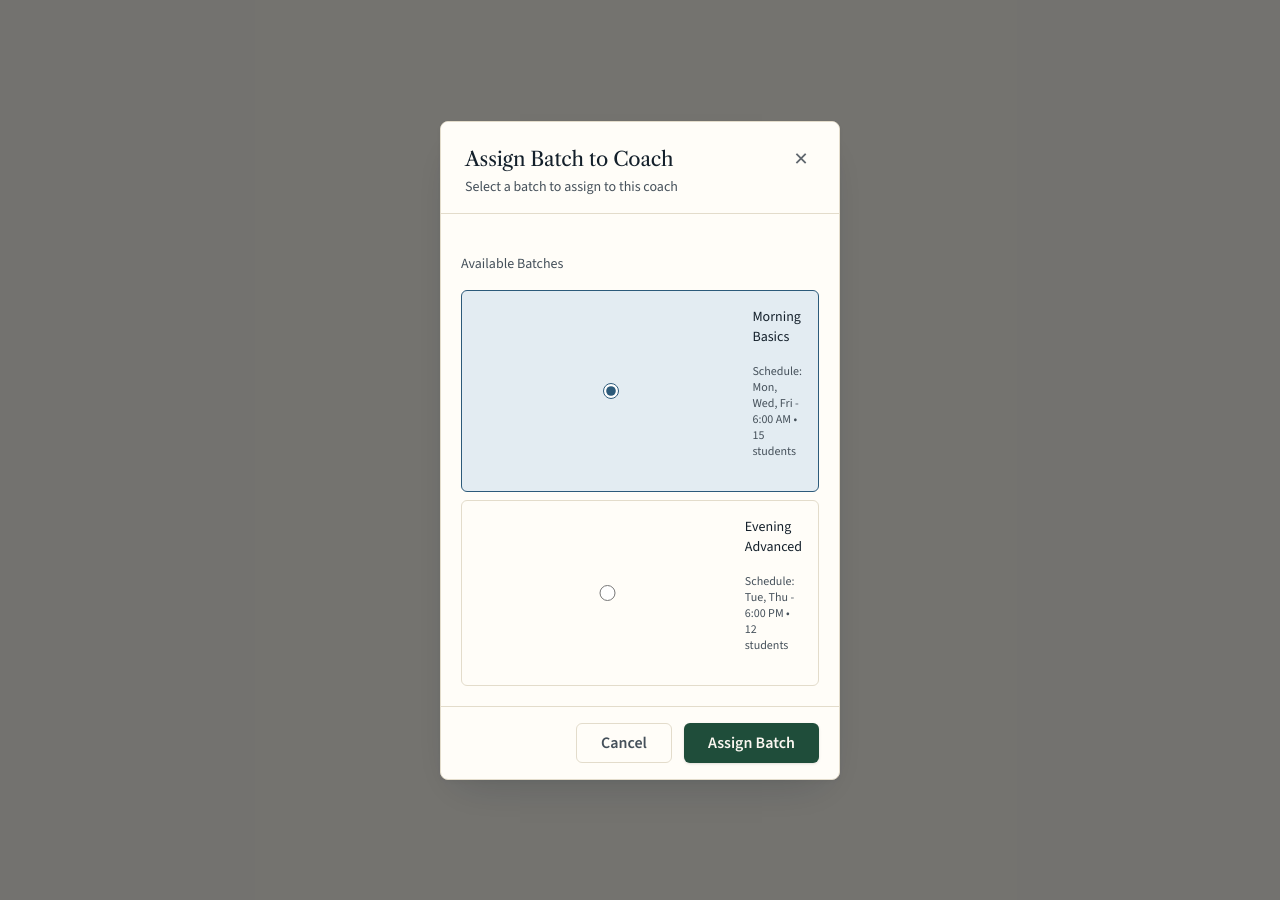
Test: AddBatchModal › should display error message on assignment failure
Click the button "Assign Batch": [751, 742] box [684,722,819,762]
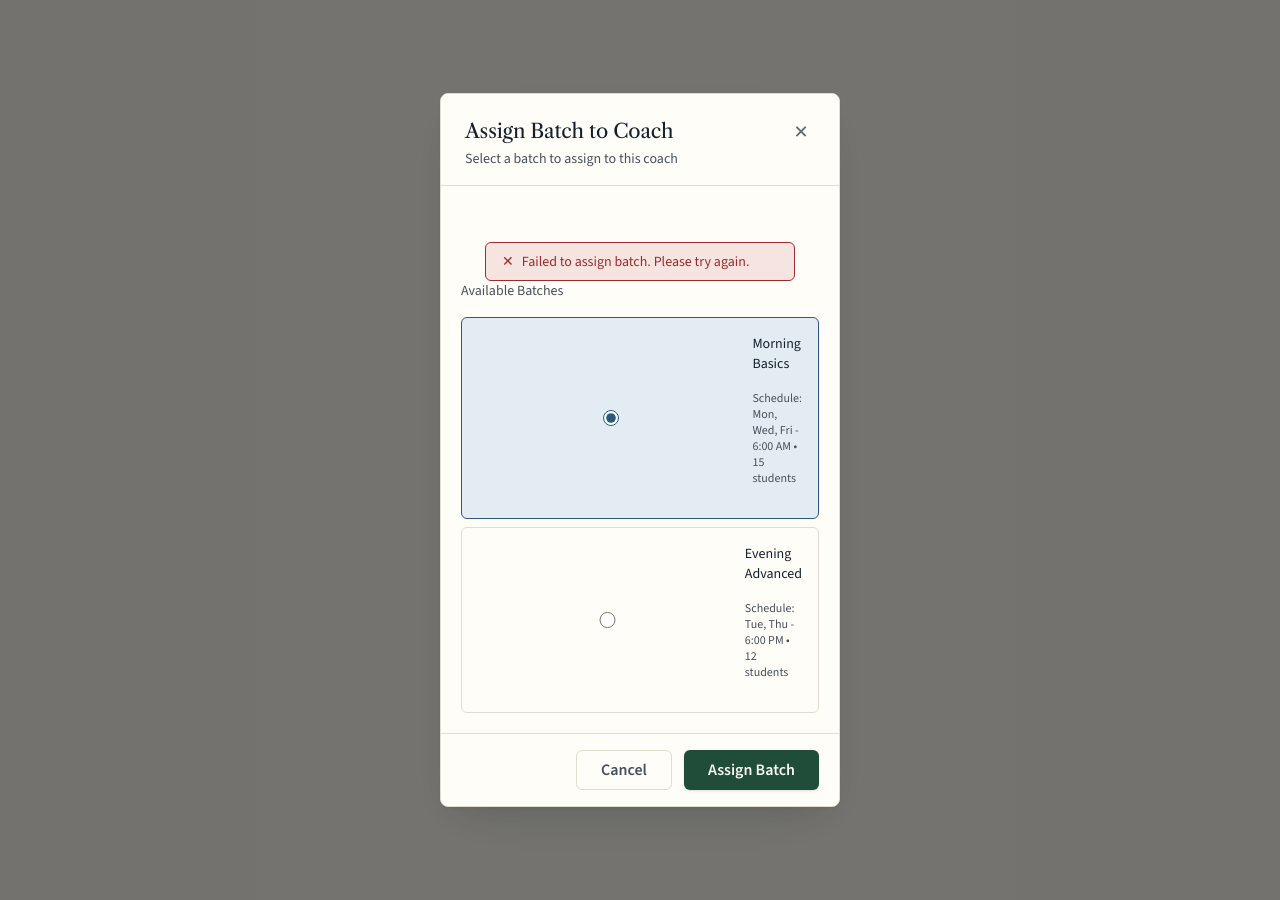
Result: the text "Failed to assign batch. Please try again." is shown at [485,242,795,281]
